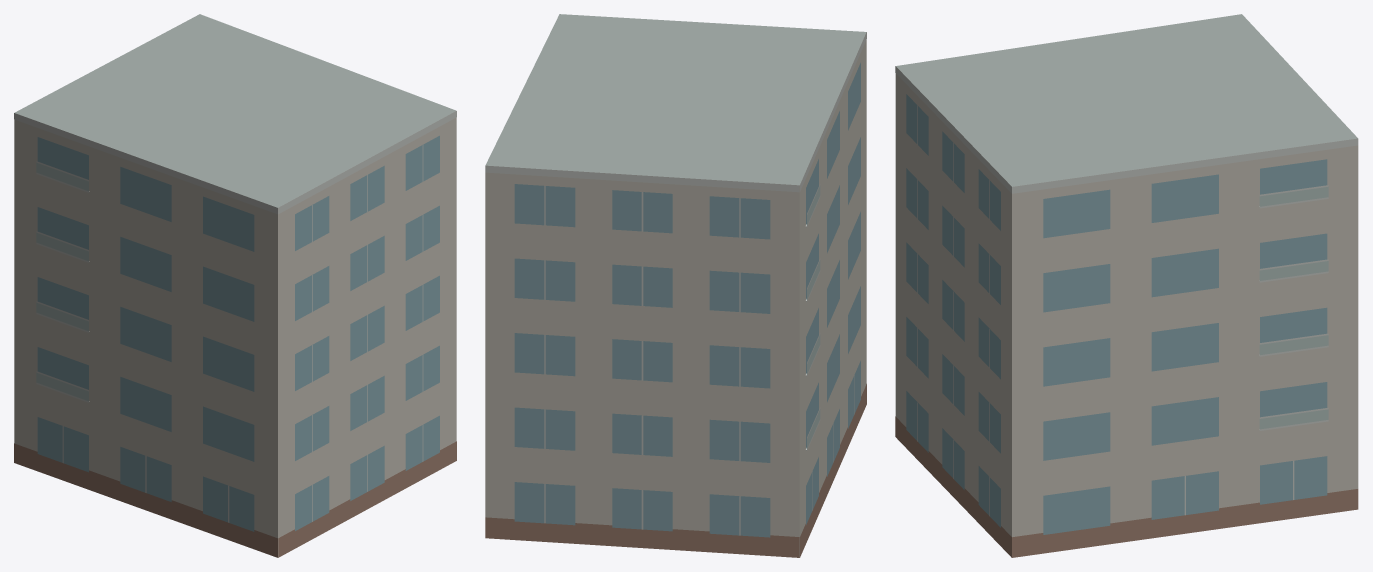
File: survey-upis-32942609.glb
The picture shows the model from 3 angles, left to right: view 1: azimuth 30°, elevation 25°; view 2: azimuth 150°, elevation 25°; view 3: azimuth 270°, elevation 25°; orthographic projection. The views are drawn at different scales.
Parts seen in each view (by area): view 1: survey-upis-32942609.tmp; view 2: survey-upis-32942609.tmp; view 3: survey-upis-32942609.tmp.
Boxes of the visible parts, x1=… form: survey-upis-32942609.tmp: x1=14, y1=14, x2=456, y2=557; survey-upis-32942609.tmp: x1=485, y1=14, x2=866, y2=557; survey-upis-32942609.tmp: x1=895, y1=14, x2=1358, y2=557.
Bounding box in the file's own units: 13 × 13 × 14.7.
